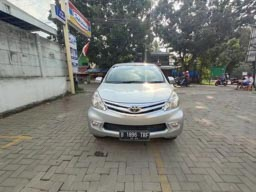plat: (117, 130, 149, 137)
